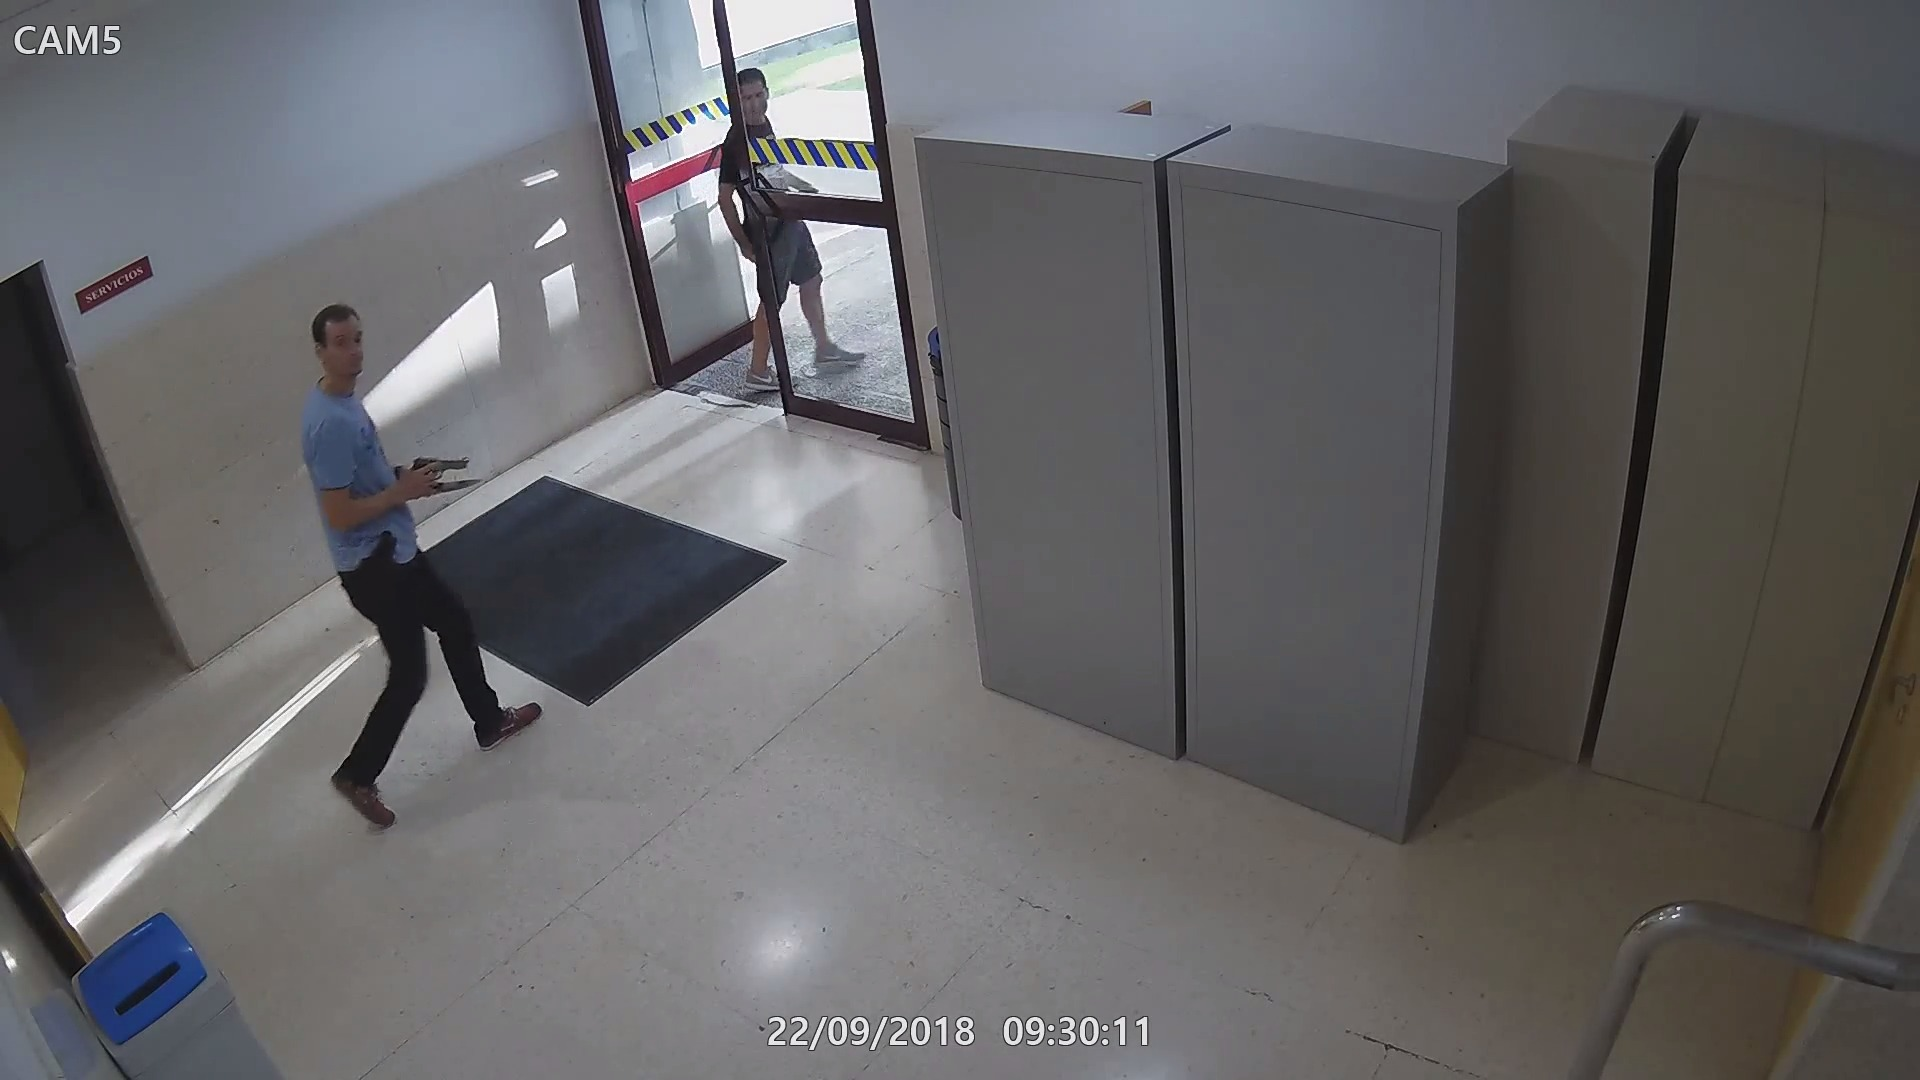Handgun: (400, 452, 465, 495)
Knife: (398, 452, 465, 504)
